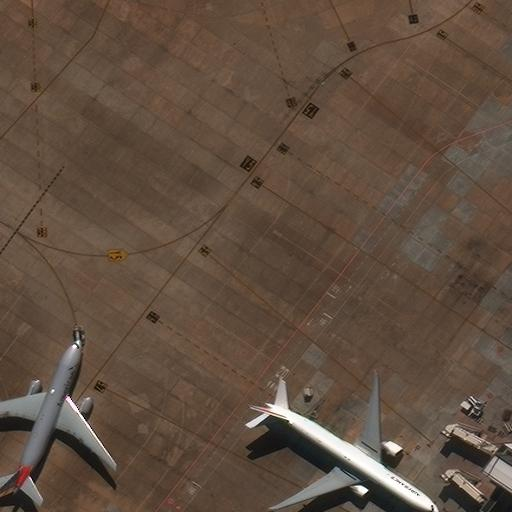Large Civil Transport: (250, 380, 440, 512), (0, 339, 117, 492)
